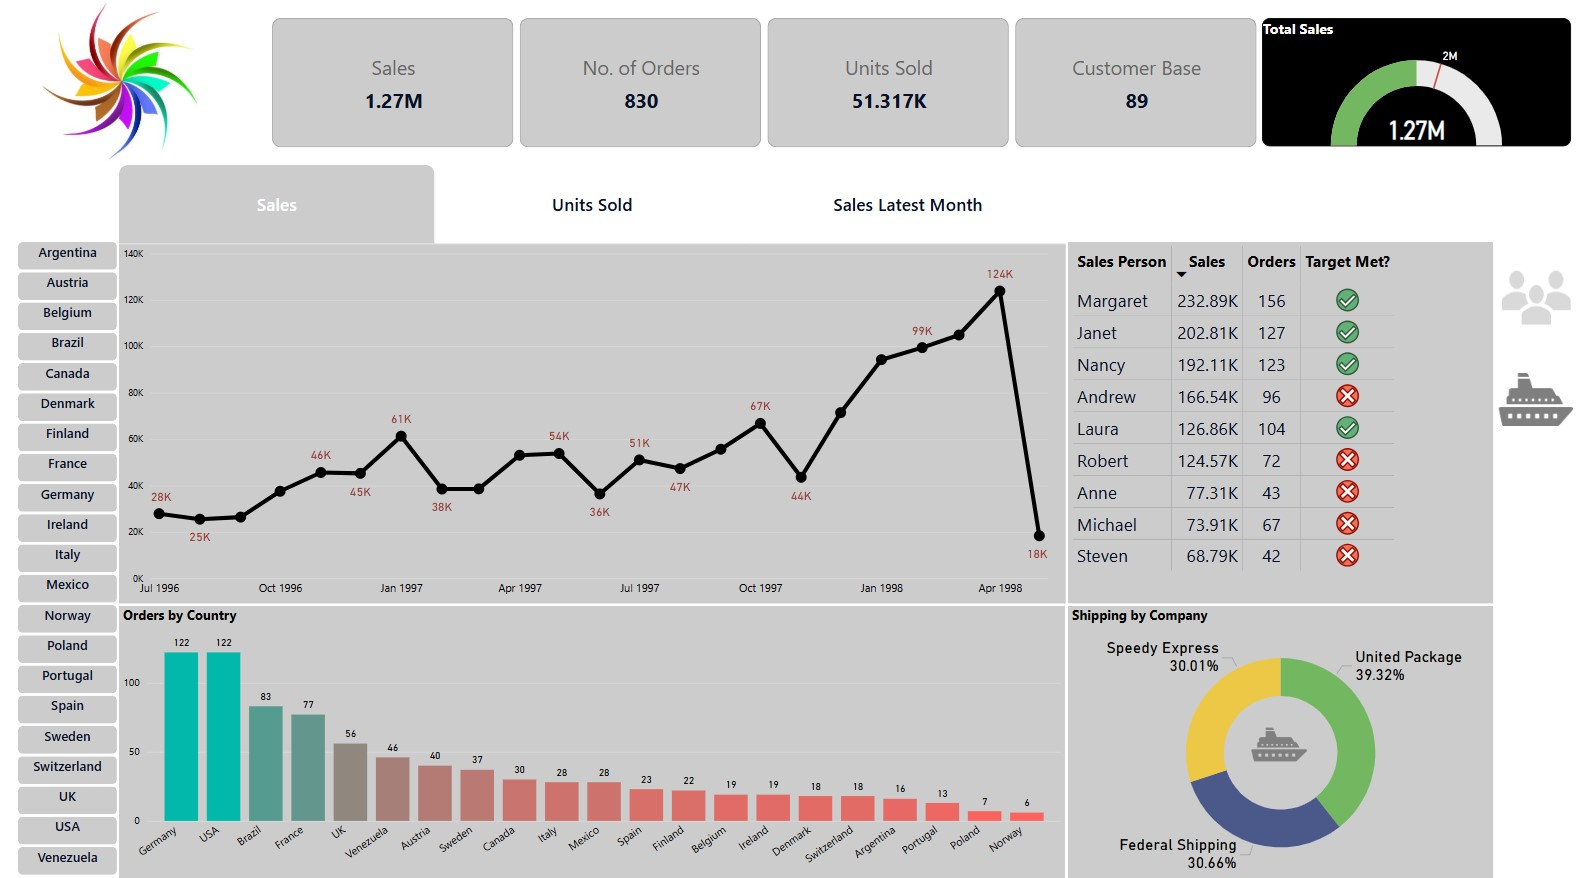

This screenshot's page, from the dashboard's own definition file:
{"tool":"powerbi","page":{"name":"Sales Report","canvas":[1920,1080],"ordinal":0},"visuals":[{"type":"cardVisual","fields":{"Data":["_Measure.Total Sales","_Measure.Total Num of Orders","_Measure.Total_Units_Sold","orders (2).CustomerID"]},"box":[305.5,17.8,1217,168.1],"z":0},{"type":"gauge","fields":{"Y":["_Measure.Total Sales"]},"box":[1522,22.9,377.8,157.3],"z":1000},{"type":"lineChart","fields":{"Y":["_Measure.Total Sales"],"Category":["DatesTable.Start of Month"]},"box":[123.7,300,1157.6,442.4],"z":2000},{"type":"tableEx","title":"Sales Table","fields":{"Values":["employees (2).FirstName","_Measure.Total Sales","_Measure.Total Num of Orders","_Measure.Target Met?"]},"box":[1284.9,299.2,519.5,442.4],"z":3000},{"type":"columnChart","title":"Orders by Country","fields":{"Category":["orders (2).ShipCountry"],"Y":["orders (2).OrderID"]},"box":[123.7,744.2,1158,335.8],"z":4000},{"type":"advancedSlicerVisual","fields":{"Values":["Measure_Selector.Measure_Selector"]},"box":[123.7,203,1160.3,96.8],"z":5000},{"type":"donutChart","title":"Shipping by Company","fields":{"Category":["shippers (2).CompanyName"],"Y":["orders (2).OrderID"]},"box":[1284.1,744.2,520,335.8],"z":6000},{"type":"image","title":"Shippers ICon","box":[1804.4,430.8,106,121.1],"z":8000},{"type":"image","box":[0,0,250.5,203.7],"z":9000},{"type":"image","title":"People Icon","box":[1804.4,300,106,130.8],"z":10000},{"type":"advancedSlicerVisual","fields":{"Values":["orders (2).ShipCountry"]},"box":[0,297.3,121,783],"z":11000},{"type":"image","title":"Shippers ICon","box":[1501.8,872.6,82,80.7],"z":12000}]}

Visuals, with their boxes in screenshot pixels (x1, y1, x2, y2), scaled from the page's 1920x1080 canvas onto the 1591x878 screenshot:
cardVisual - _Measure.Total Sales x _Measure.Total Num of Orders: <bbox>253, 14, 1262, 151</bbox>
gauge - _Measure.Total Sales: <bbox>1261, 19, 1574, 146</bbox>
lineChart - _Measure.Total Sales x DatesTable.Start of Month: <bbox>103, 244, 1062, 604</bbox>
"Sales Table" tableEx: <bbox>1065, 243, 1495, 603</bbox>
"Orders by Country" columnChart: <bbox>103, 605, 1062, 877</bbox>
advancedSlicerVisual - Measure_Selector.Measure_Selector: <bbox>103, 165, 1064, 244</bbox>
"Shipping by Company" donutChart: <bbox>1064, 605, 1495, 877</bbox>
"Shippers ICon" image: <bbox>1495, 350, 1583, 449</bbox>
image: <bbox>0, 0, 208, 166</bbox>
"People Icon" image: <bbox>1495, 244, 1583, 350</bbox>
advancedSlicerVisual - orders (2).ShipCountry: <bbox>0, 242, 100, 877</bbox>
"Shippers ICon" image: <bbox>1244, 709, 1312, 775</bbox>
